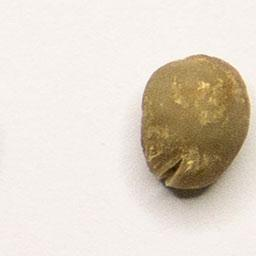peaberry: (136, 51, 252, 196)
